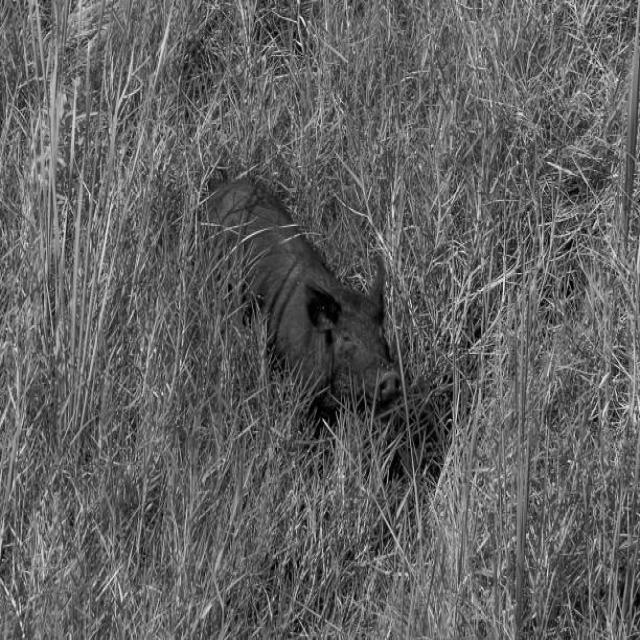boar: (200, 170, 399, 411)
